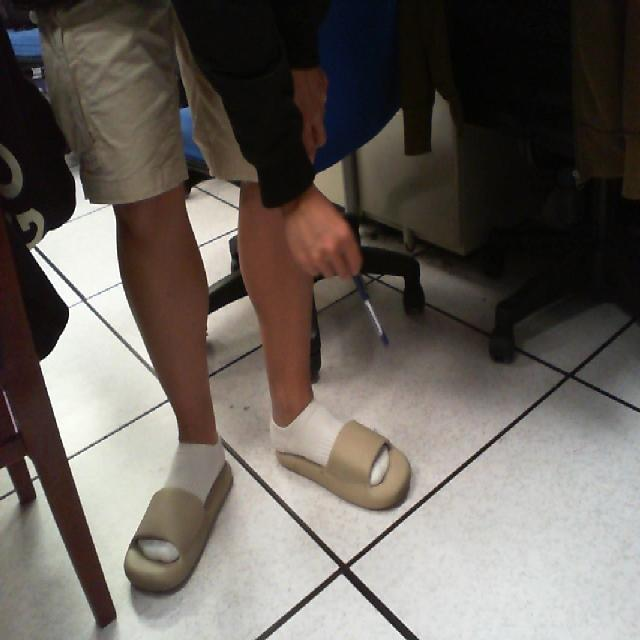Pen: (340, 242, 400, 368)
